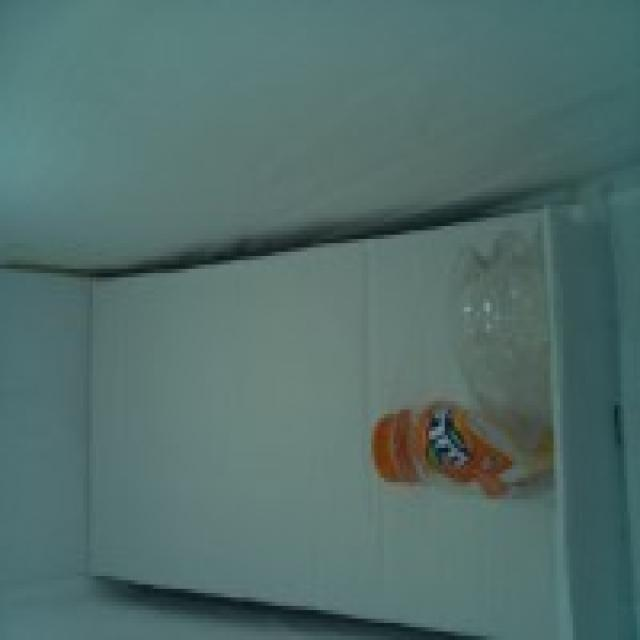Pet_Bottle: (371, 226, 556, 508)
